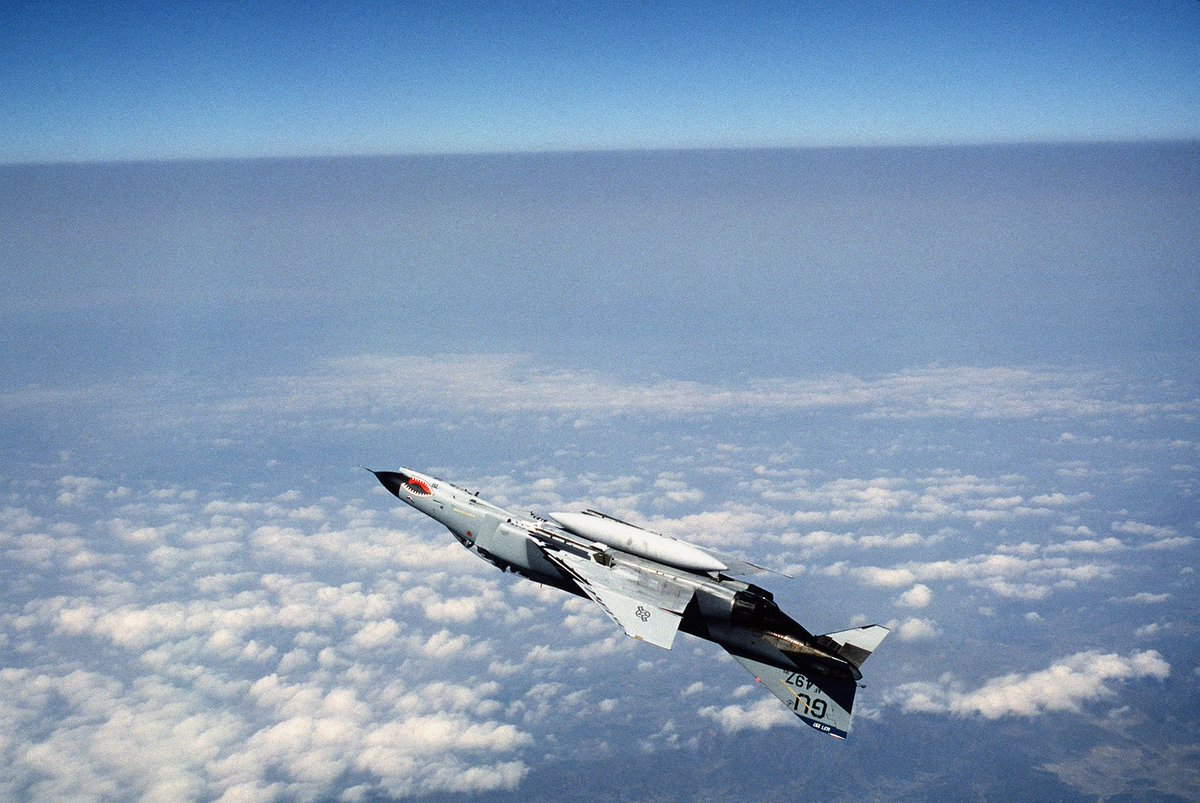F4: (356, 463, 892, 742)
